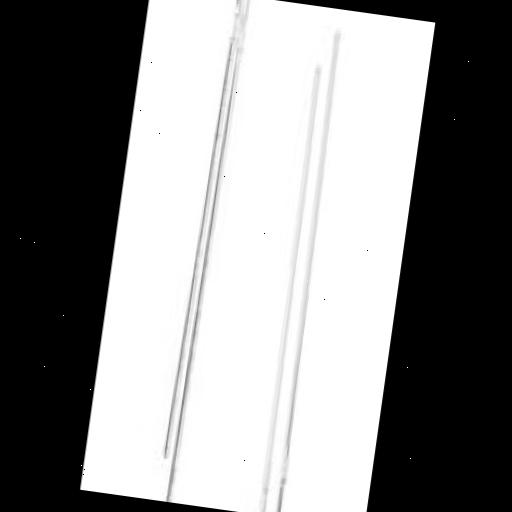LED: (186, 109, 260, 273)
